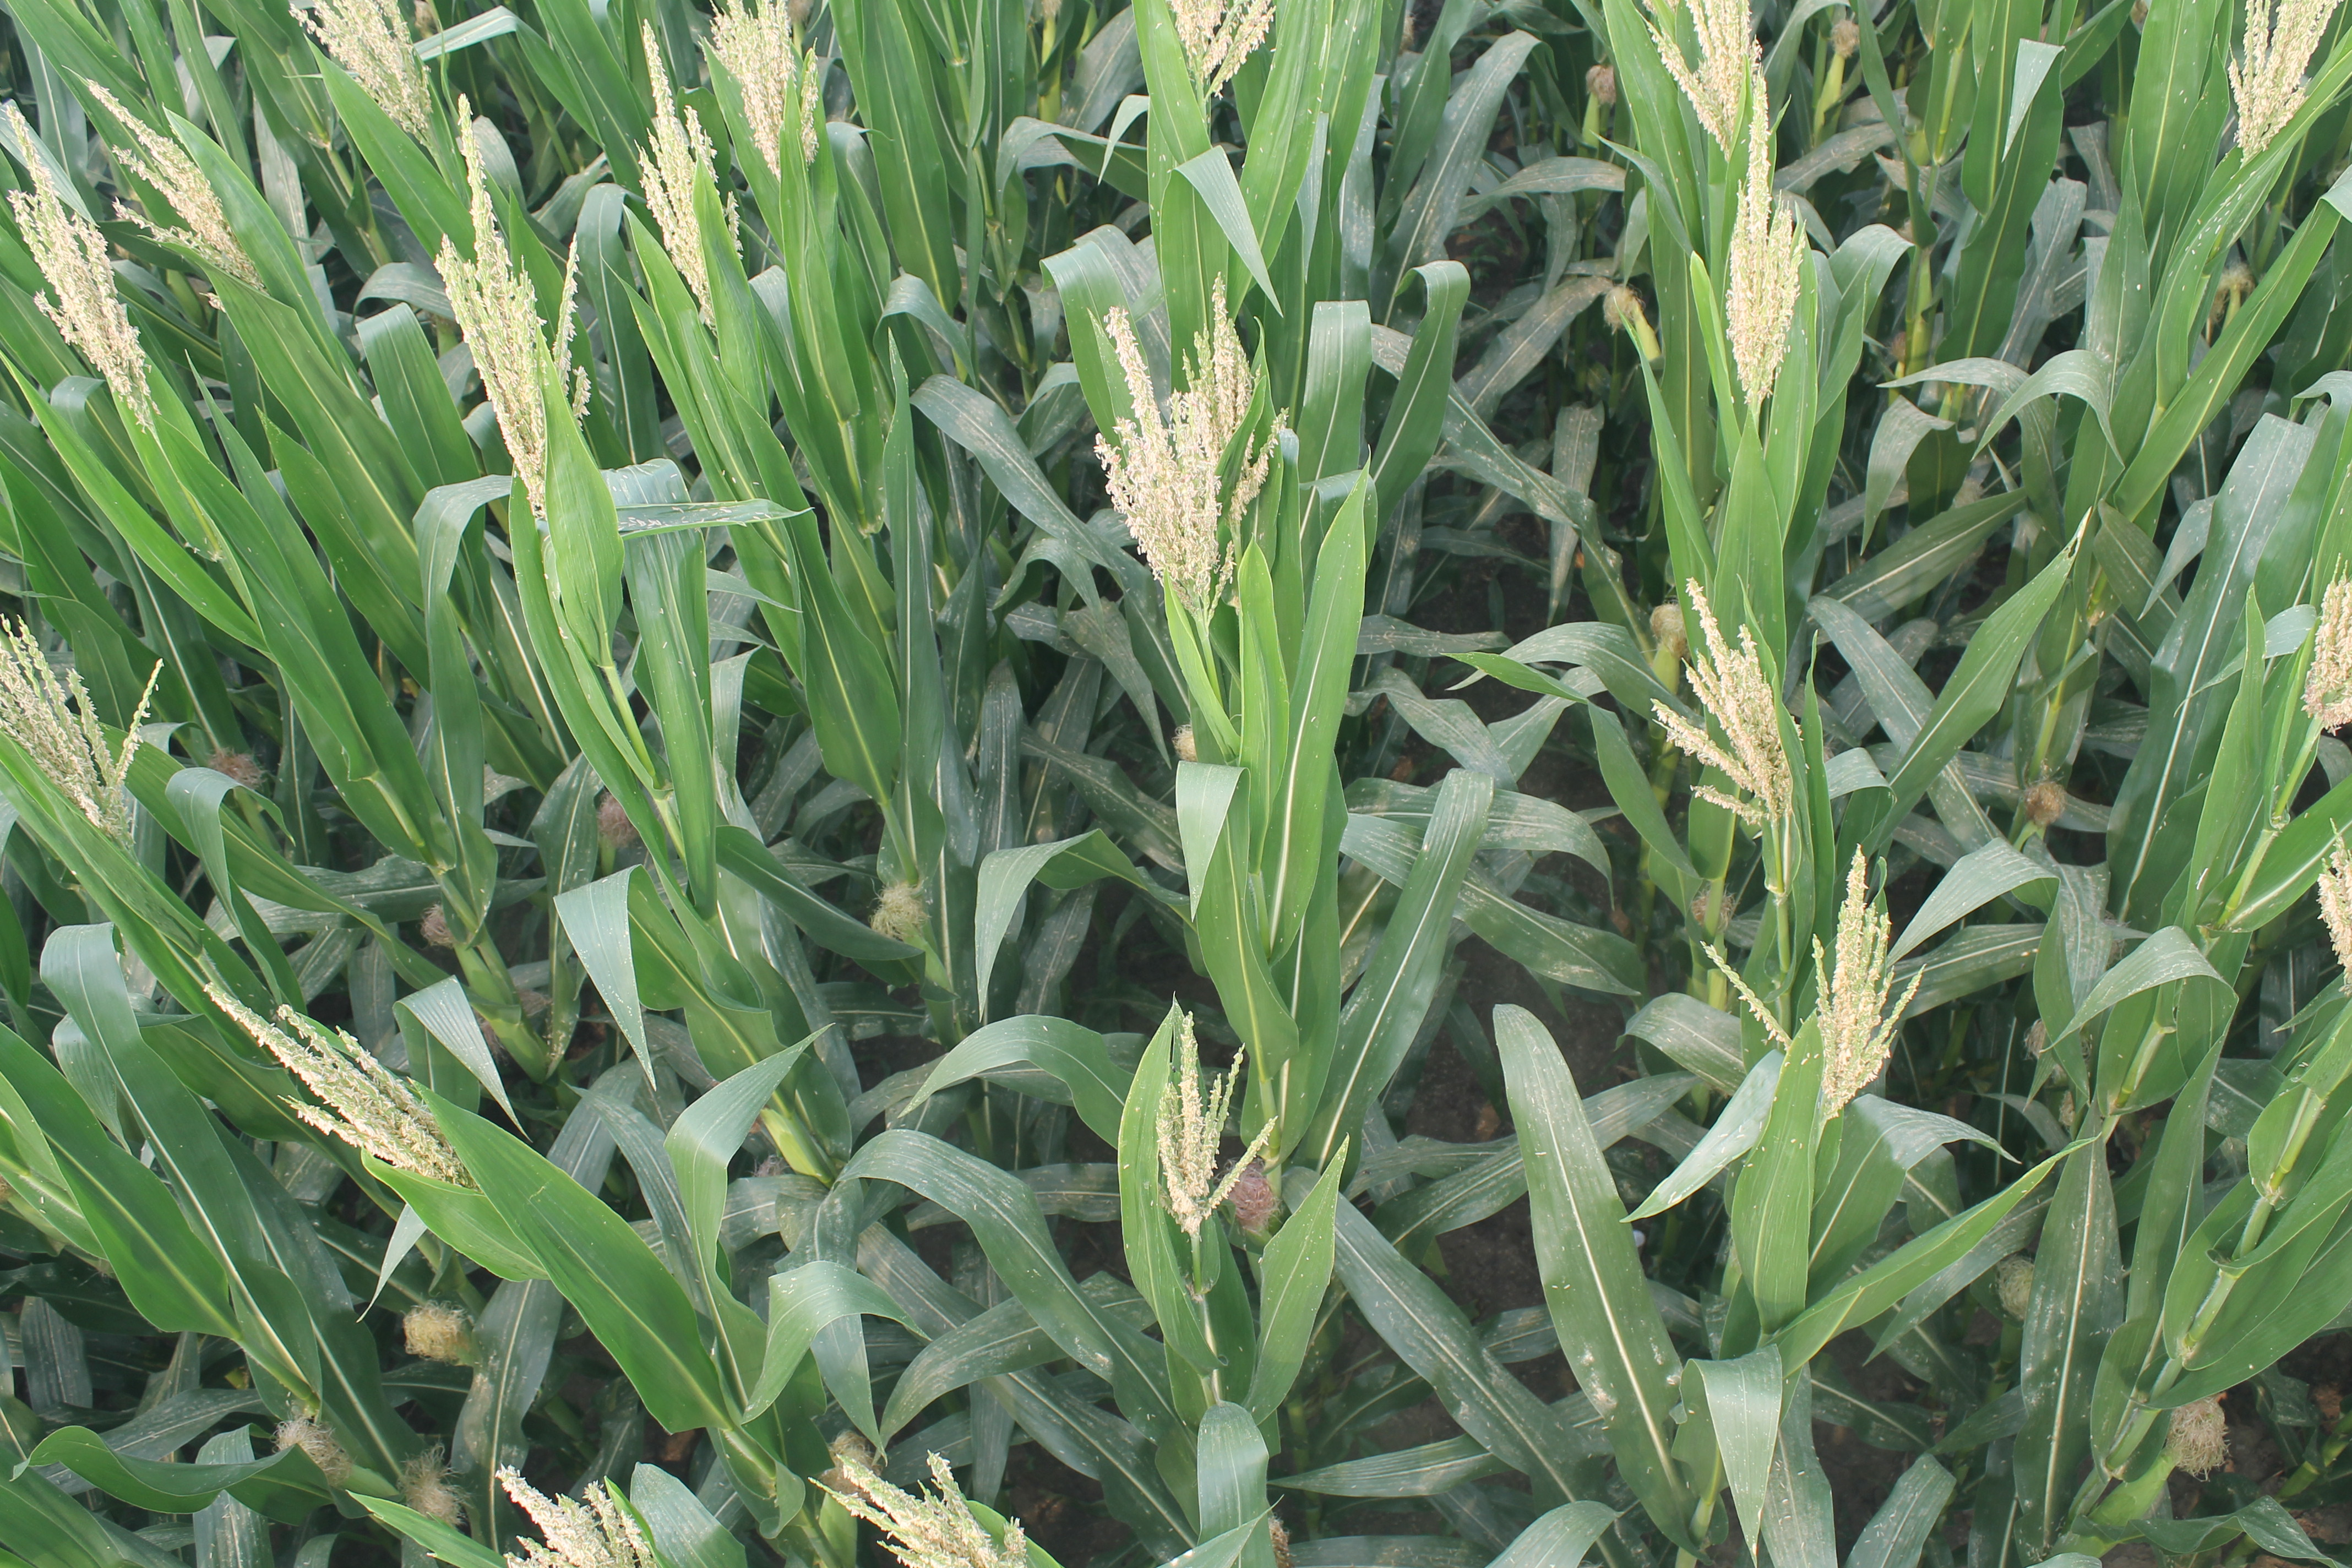Maize: (199, 971, 493, 1213), (1085, 290, 1295, 621), (1701, 856, 1946, 1118), (457, 105, 604, 514), (0, 602, 206, 843), (1136, 999, 1307, 1244), (1645, 569, 1795, 819), (112, 65, 269, 280), (794, 1447, 1029, 1568), (623, 24, 719, 315), (0, 128, 103, 395), (1711, 161, 1811, 418), (476, 1444, 667, 1568), (2208, 0, 2348, 168), (306, 0, 444, 128), (1148, 0, 1295, 112), (738, 0, 847, 149), (2273, 569, 2352, 740), (1657, 0, 1748, 143), (2305, 831, 2352, 1003)
